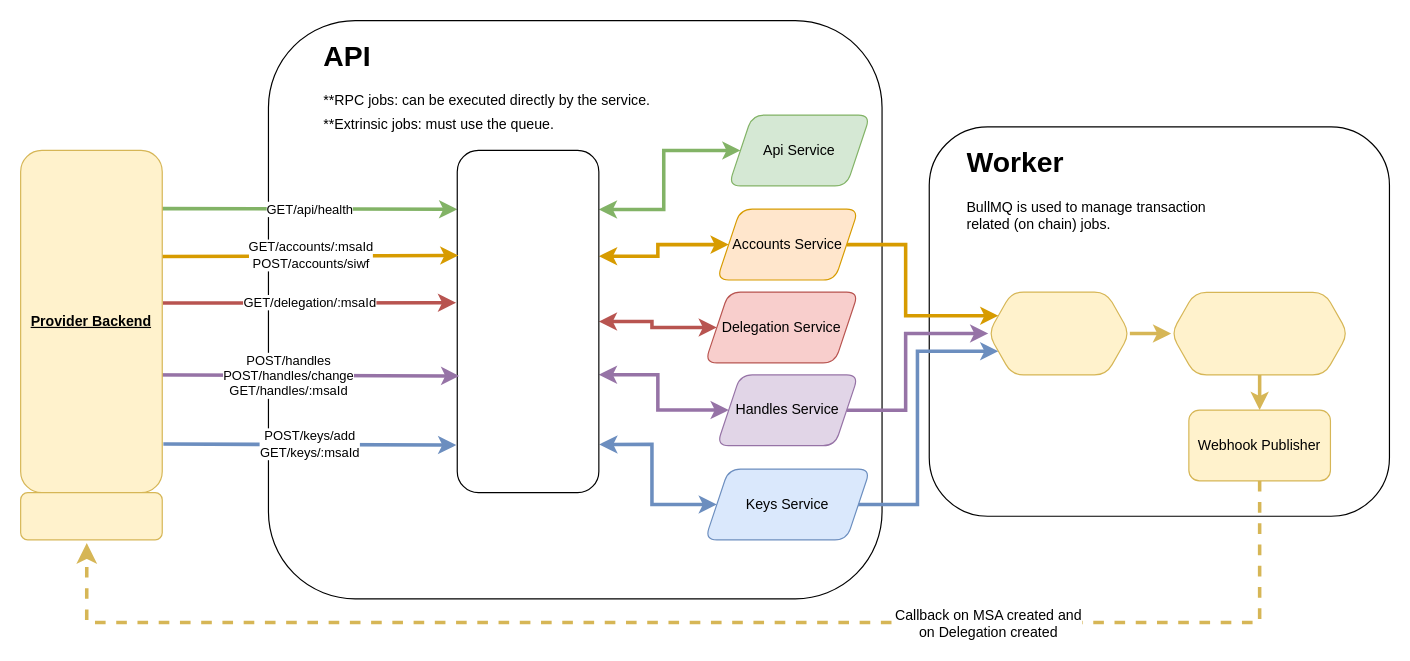
Some shapes in this 1410 by 661 pixel diagram are drawn without their labels. The centre of each missing label's shape, as x and y in pixels:
API Controllers: the point at 527,321
Global Webhook: the point at 90,515
Transaction Notifier: the point at 1259,333
Transaction Publisher: the point at 1058,333
